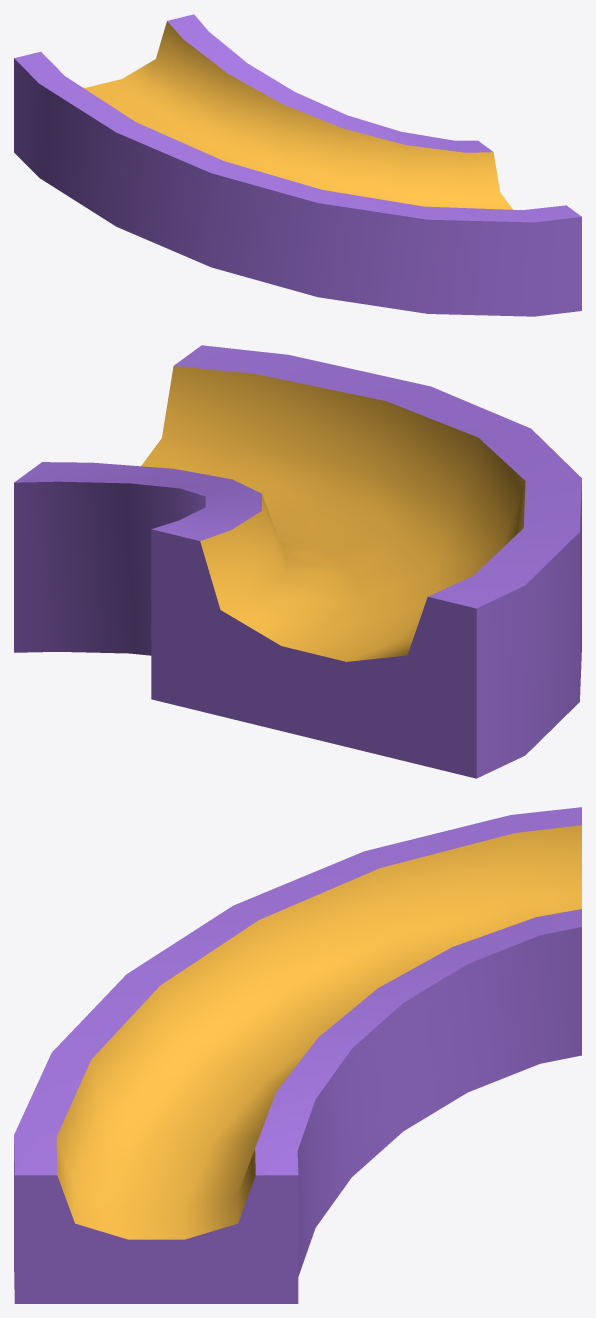
Rendered from helix-quarter-right-col.glb.
3 renders of one model, top to bottom at view 1: azimuth 30°, elevation 25°; view 2: azimuth 150°, elevation 25°; view 3: azimuth 270°, elevation 25°, orthographic. The views are drawn at different scales.
Visible parts, largest first — view 1: helix-quarter-right-col; view 2: helix-quarter-right-col; view 3: helix-quarter-right-col.
Boxes of the visible parts, box(x1,y1,x2,y2) form: helix-quarter-right-col: box(14, 14, 581, 316); helix-quarter-right-col: box(14, 345, 581, 778); helix-quarter-right-col: box(14, 807, 581, 1303).
Bounding box in the file's own units: 2 × 1 × 2.
1 material, 1 textured.
